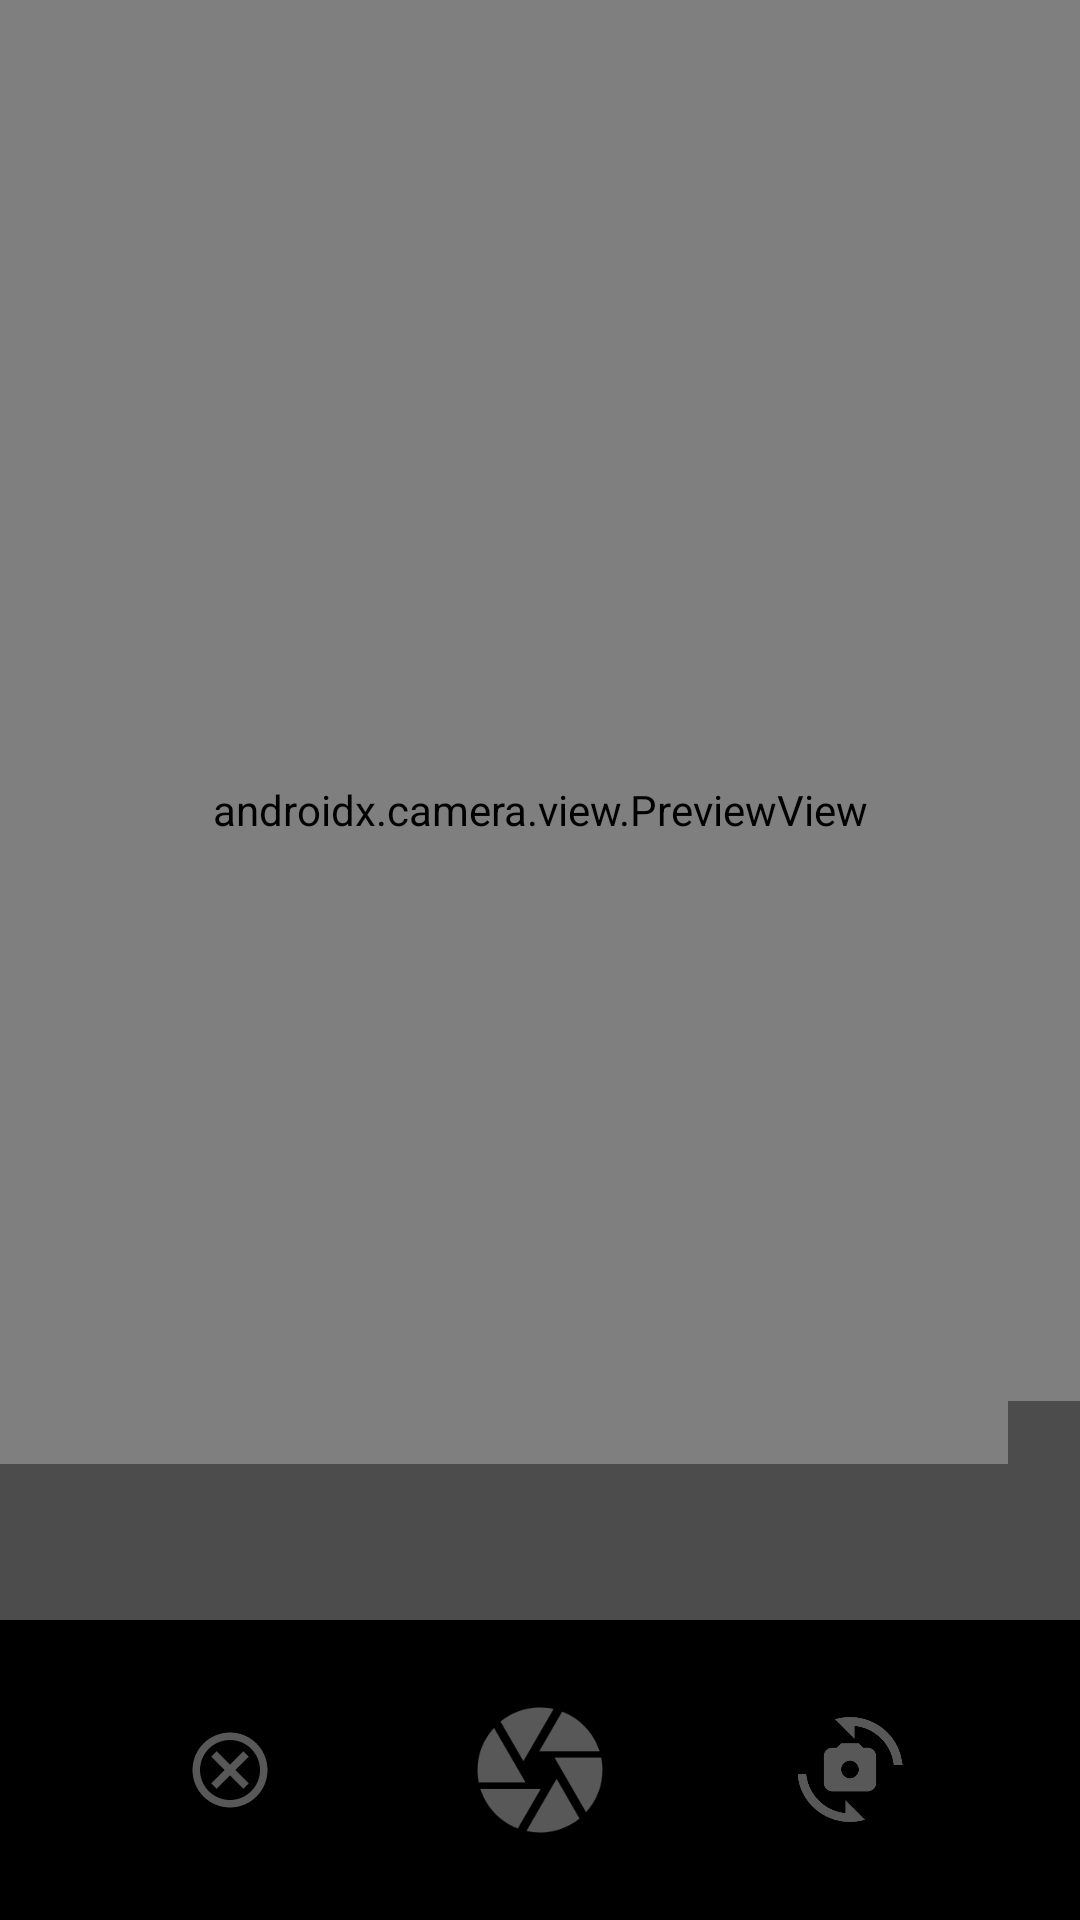

Named icons in this screenshot (1080 x 1920) and their centers, point (x, y):
cameraswitch: point (850, 1769)
cancel: point (230, 1770)
